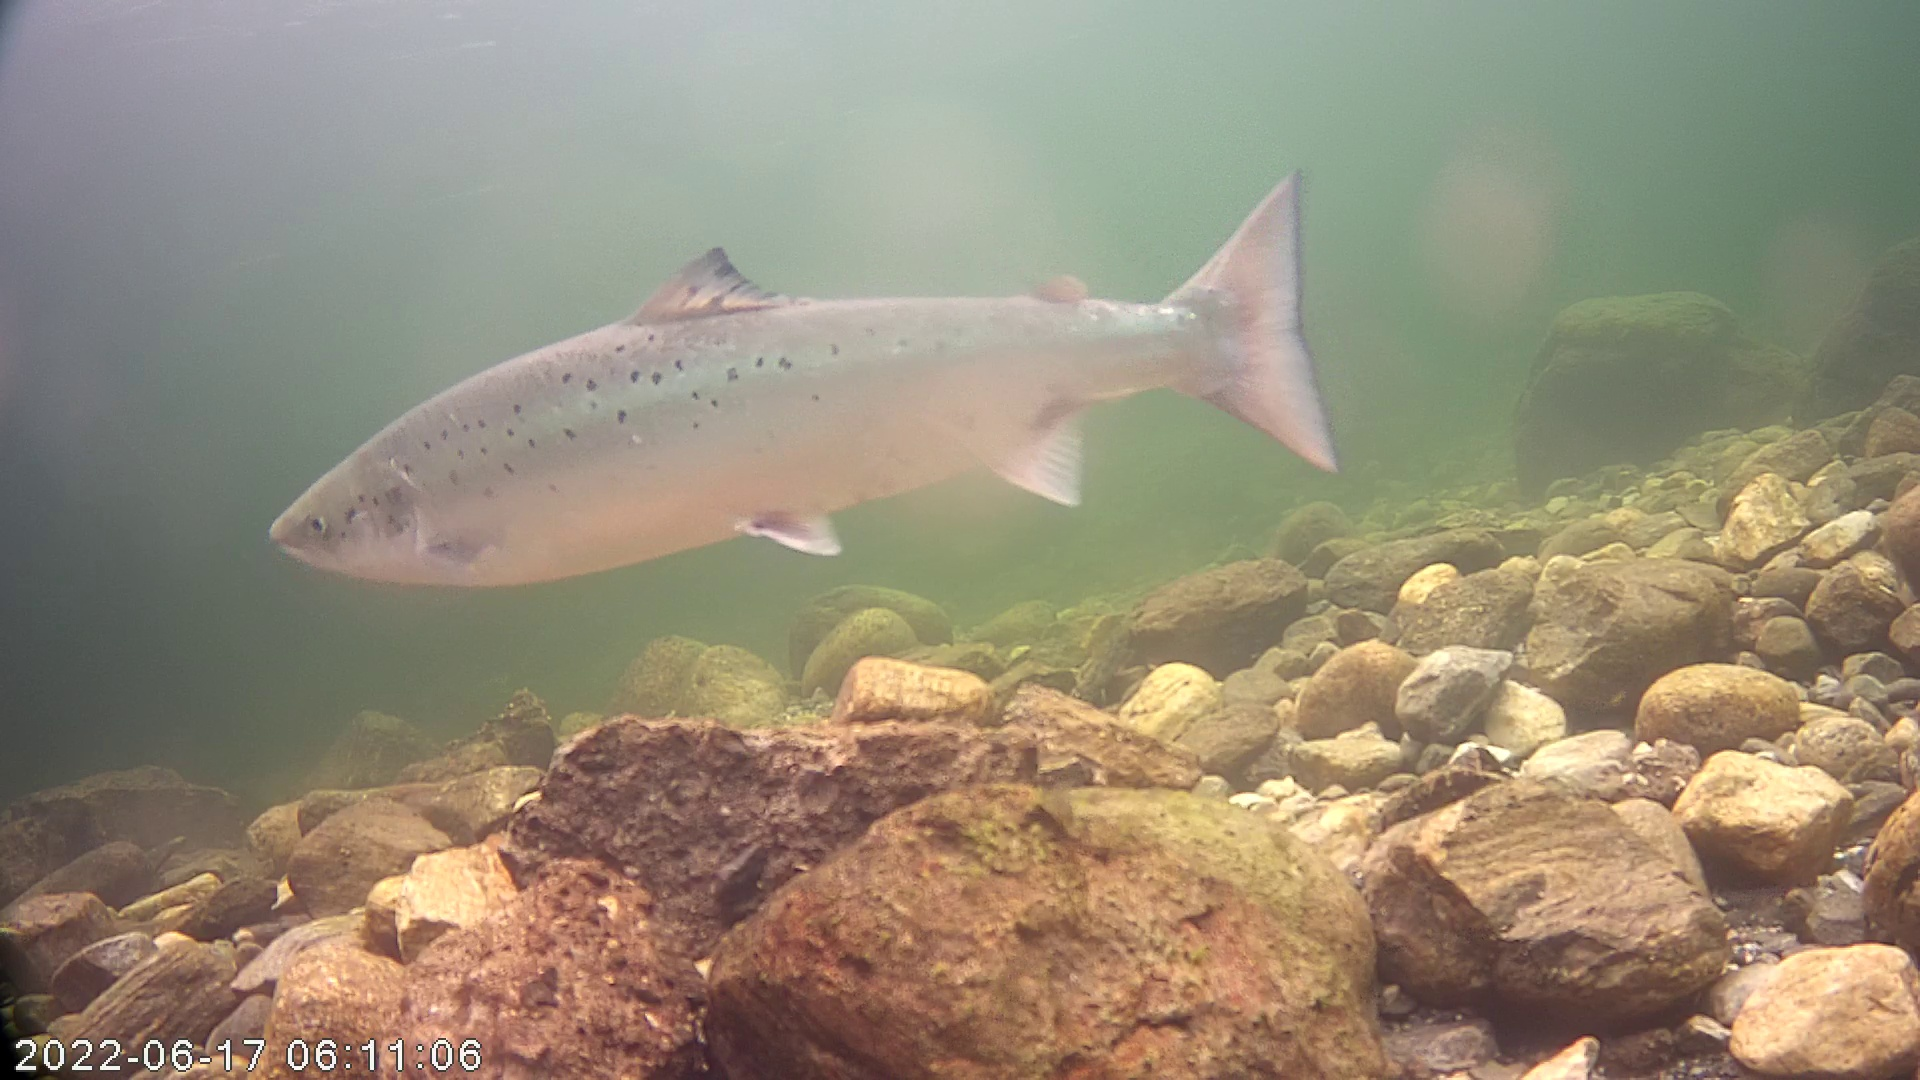salmon: (264, 170, 1338, 593)
